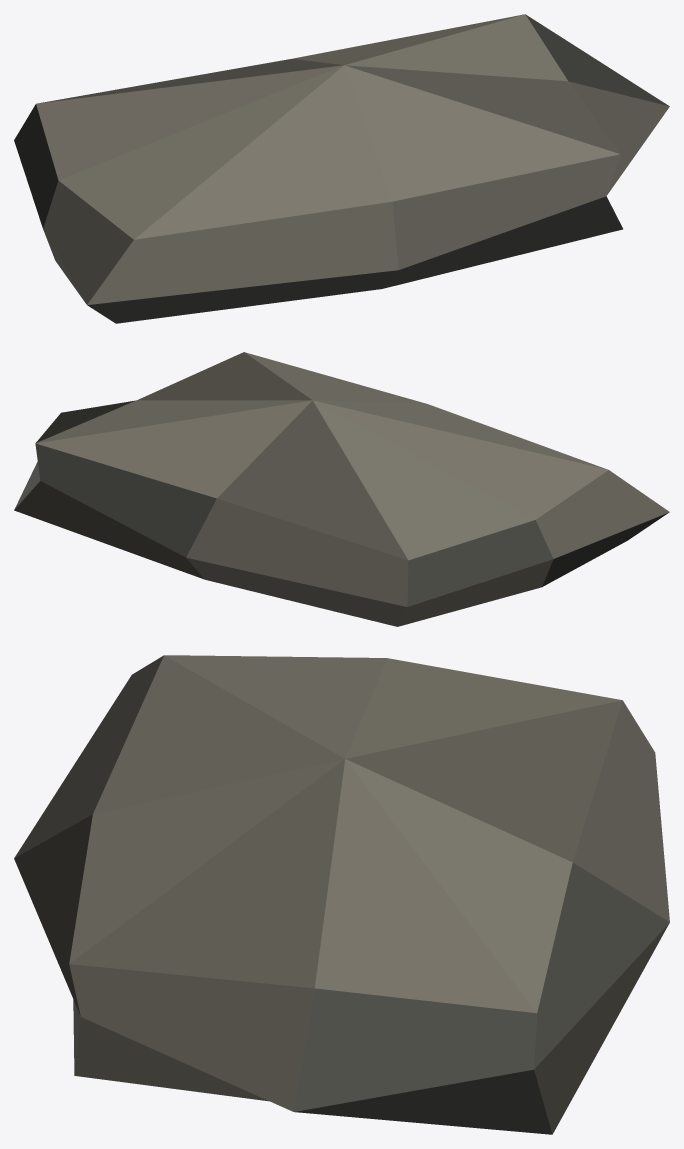
File: river-stone-c.glb
3 views of the same model, one above another, from view 1: azimuth 30°, elevation 25°; view 2: azimuth 150°, elevation 25°; view 3: azimuth 270°, elevation 25° (orthographic). The views are drawn at different scales.
Parts seen in each view (by area): view 1: River_Stone_C; view 2: River_Stone_C; view 3: River_Stone_C.
Boxes of the visible parts, box(x1,y1,x2,y2) form: River_Stone_C: box(14, 14, 669, 323); River_Stone_C: box(14, 352, 669, 626); River_Stone_C: box(14, 655, 669, 1134).
Size of the model in its own units: 1.02 by 0.2318 by 0.6454.
1 material, 1 textured.
